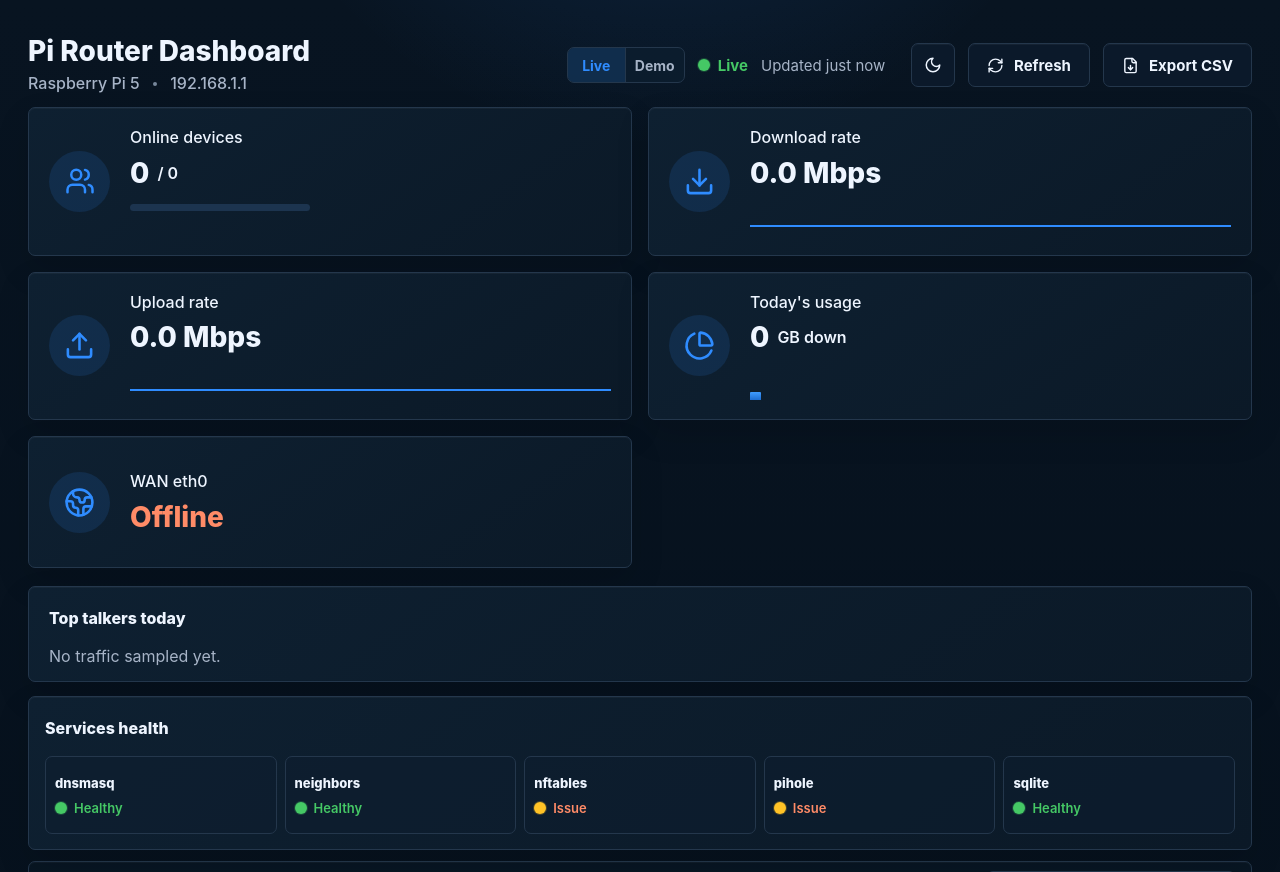
it: App › opens a Pi-hole log popup from the device table
The image size is (1280, 872).
Step 1. Click the button "Demo" → (655, 65), box [626, 48, 684, 82]
(page scrolled)
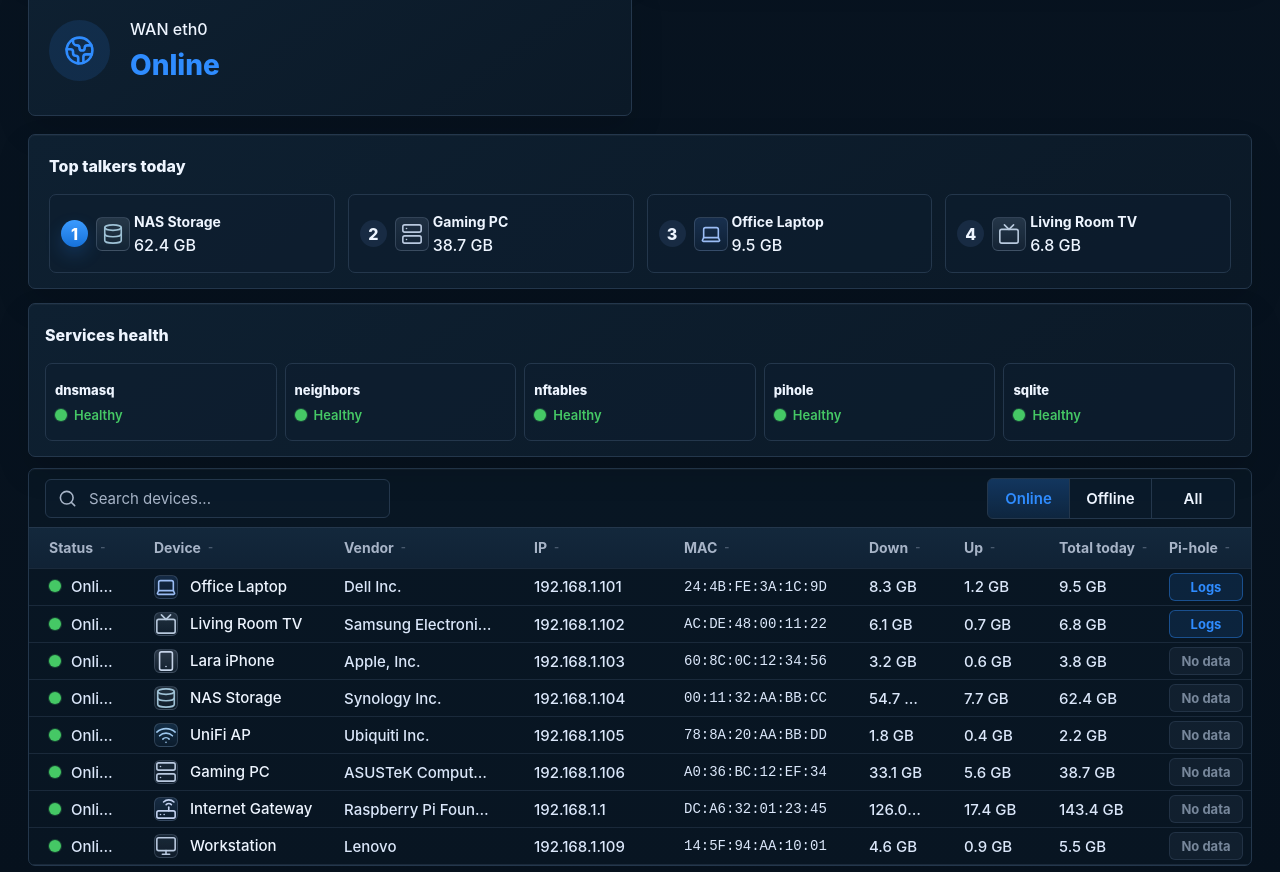
Step 2. Click the button with aria-label "Show Pi-hole logs for Living Room TV" → (1206, 624), box [1169, 610, 1243, 638]
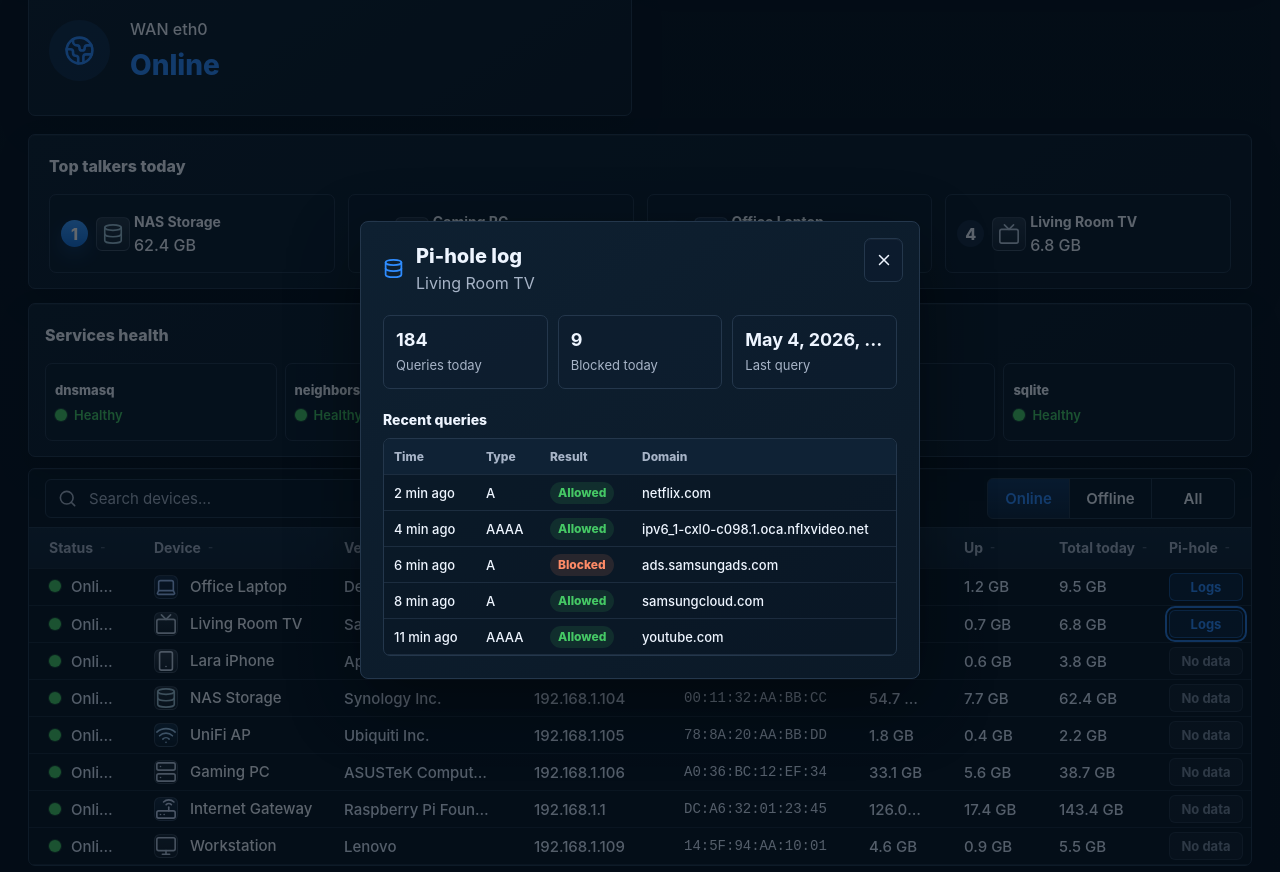
Result: the dialog "Pi-hole log" shows "Living Room TV" at [416, 273, 535, 293]
Result: the dialog "Pi-hole log" shows "184" at [396, 329, 428, 350]
Result: the dialog "Pi-hole log" shows "netflix.com" at [642, 485, 711, 501]
